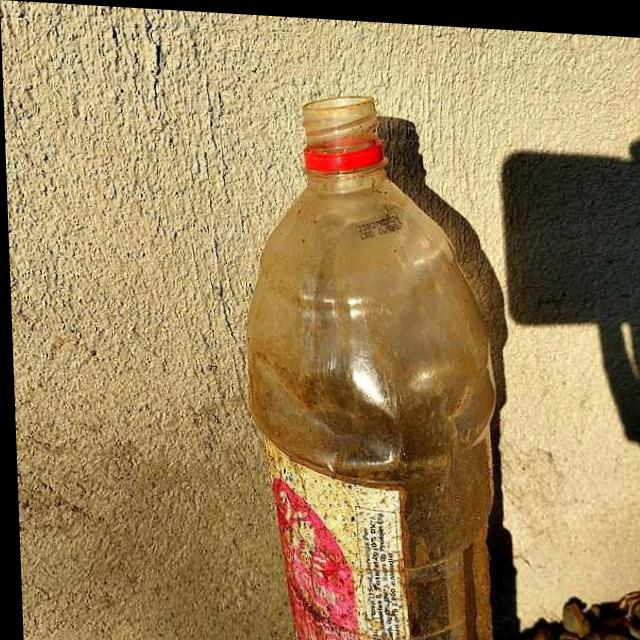Non-biodegradable: (236, 85, 506, 640)
